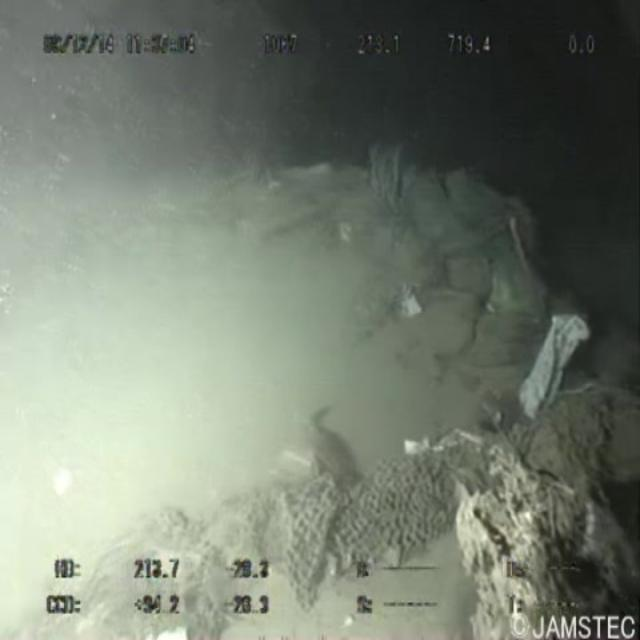Rope: (62, 435, 460, 630), (463, 384, 640, 640)
